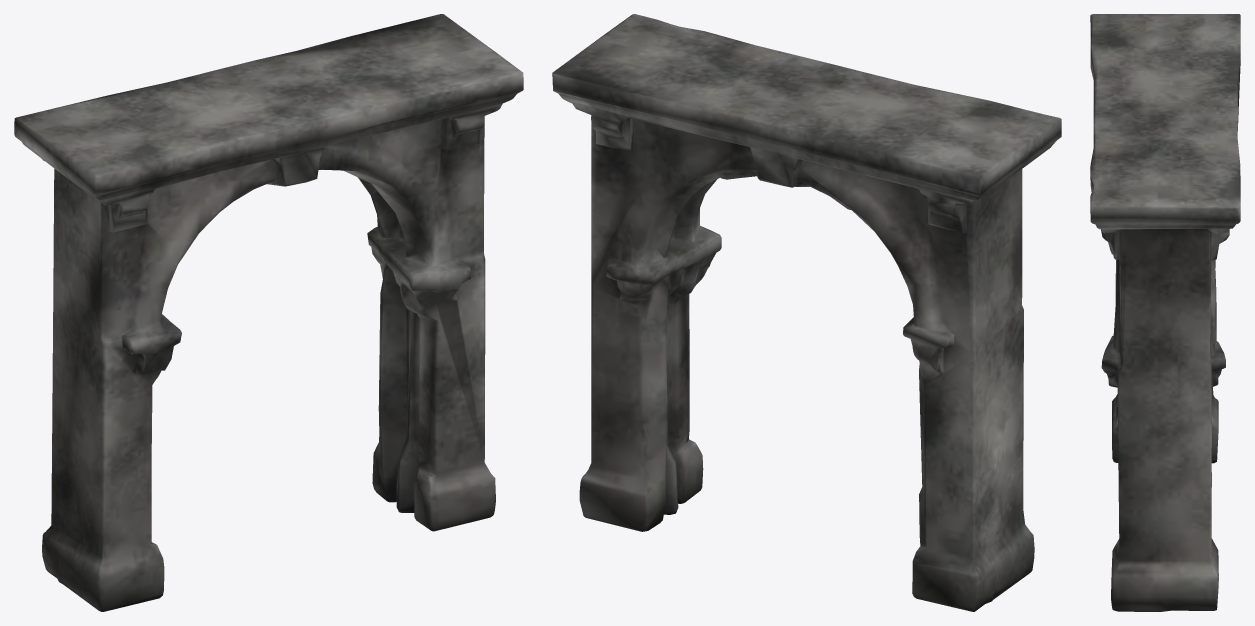
Rendered from weathered-granite-arched-doorway-v001.glb.
3 renders of one model, left to right at view 1: azimuth 30°, elevation 25°; view 2: azimuth 150°, elevation 25°; view 3: azimuth 270°, elevation 25°, orthographic. The views are drawn at different scales.
Visible parts, largest first — view 1: weathered-granite-arched-doorway; view 2: weathered-granite-arched-doorway; view 3: weathered-granite-arched-doorway.
Part boxes in pixels (bbox=[...]): weathered-granite-arched-doorway: bbox=[14, 14, 523, 611]; weathered-granite-arched-doorway: bbox=[552, 14, 1061, 611]; weathered-granite-arched-doorway: bbox=[1090, 14, 1240, 611].
Bounding box in the file's own units: 2.96 × 2.97 × 0.9745.
1 material, 1 textured.
